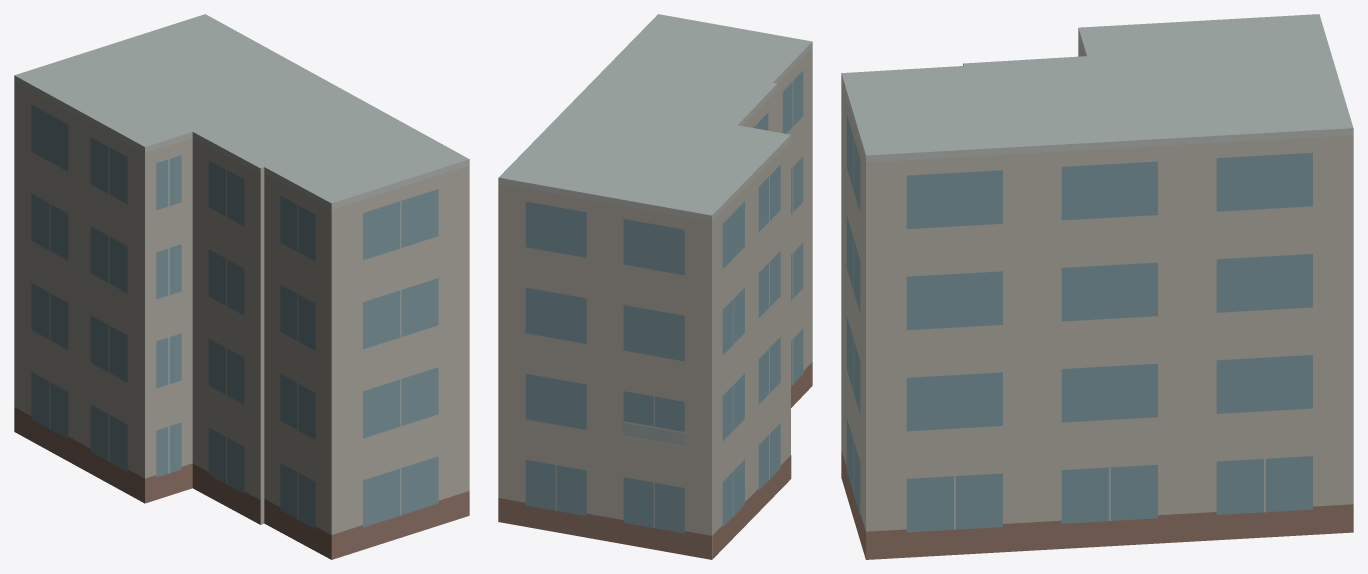
The model's file is survey-upis-32714878.glb.
The picture shows the model from 3 angles, left to right: view 1: azimuth 30°, elevation 25°; view 2: azimuth 150°, elevation 25°; view 3: azimuth 270°, elevation 25°; orthographic projection. The views are drawn at different scales.
Parts seen in each view (by area): view 1: survey-upis-32714878.tmp; view 2: survey-upis-32714878.tmp; view 3: survey-upis-32714878.tmp.
Part boxes in pixels (x1,y1,x2,y2): survey-upis-32714878.tmp: (14, 14, 469, 559); survey-upis-32714878.tmp: (498, 14, 812, 559); survey-upis-32714878.tmp: (841, 14, 1353, 559).
Bounding box in the file's own units: 10.46 × 13.92 × 15.99.
